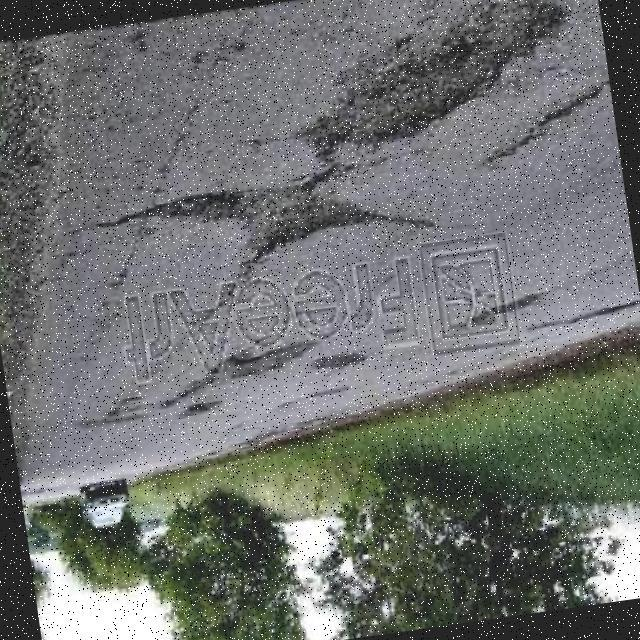Pothole: (308, 0, 566, 154), (95, 162, 439, 262)
